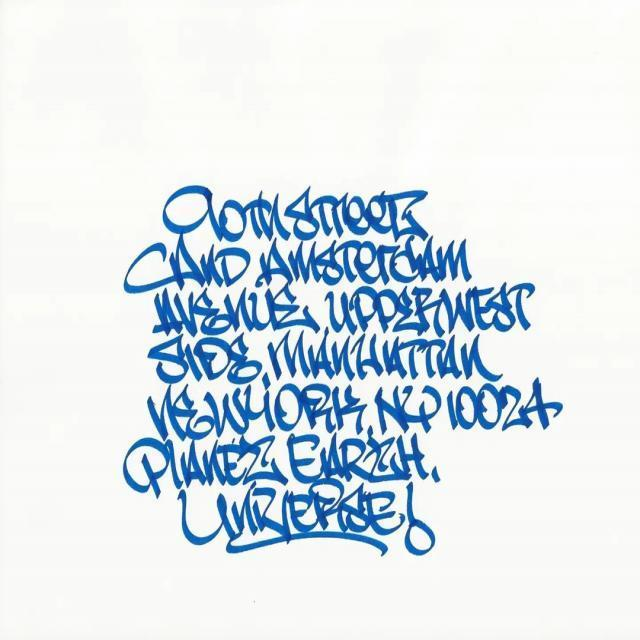-: (65, 148, 580, 586)
